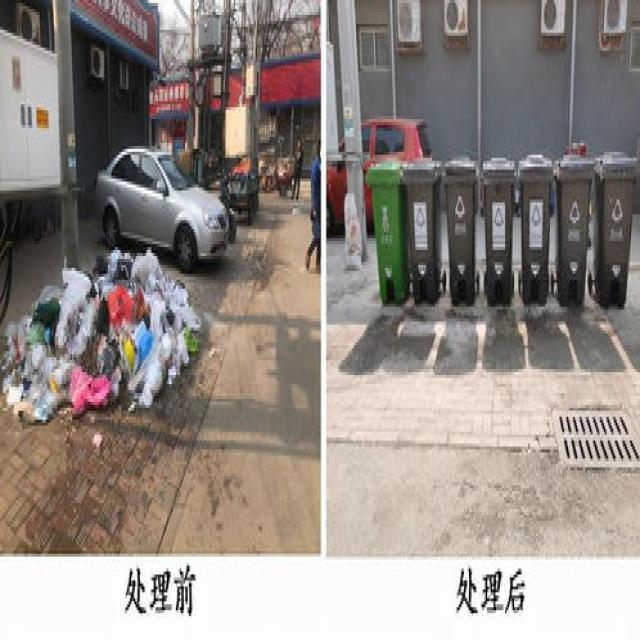garbage: (0, 241, 200, 425)
garbage_bin: (592, 146, 639, 306), (400, 154, 442, 304), (366, 157, 409, 300), (552, 152, 592, 304), (443, 154, 477, 304), (481, 152, 515, 300), (518, 152, 551, 304)
